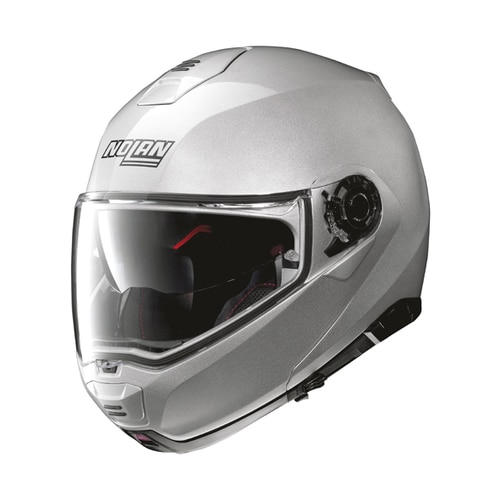with_helmet: (61, 39, 441, 456)
